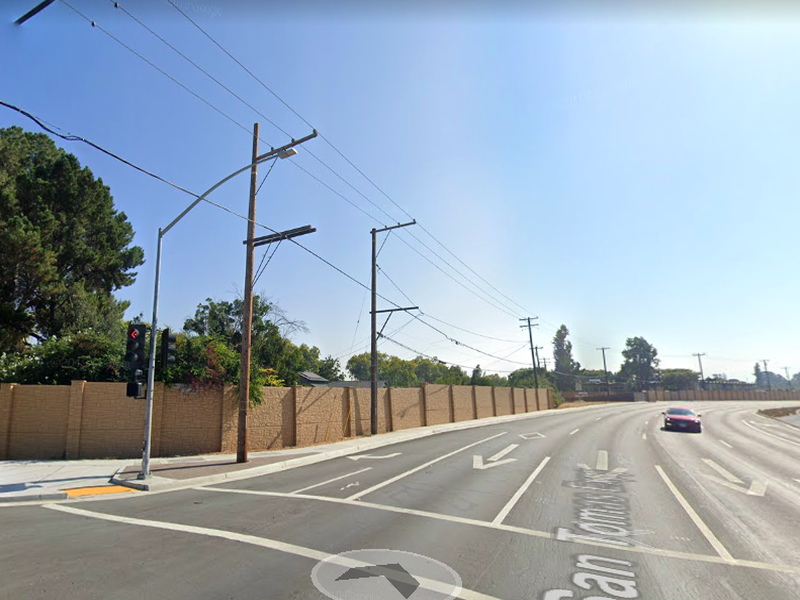utility_pole: (239, 114, 323, 190), (363, 211, 424, 262)
